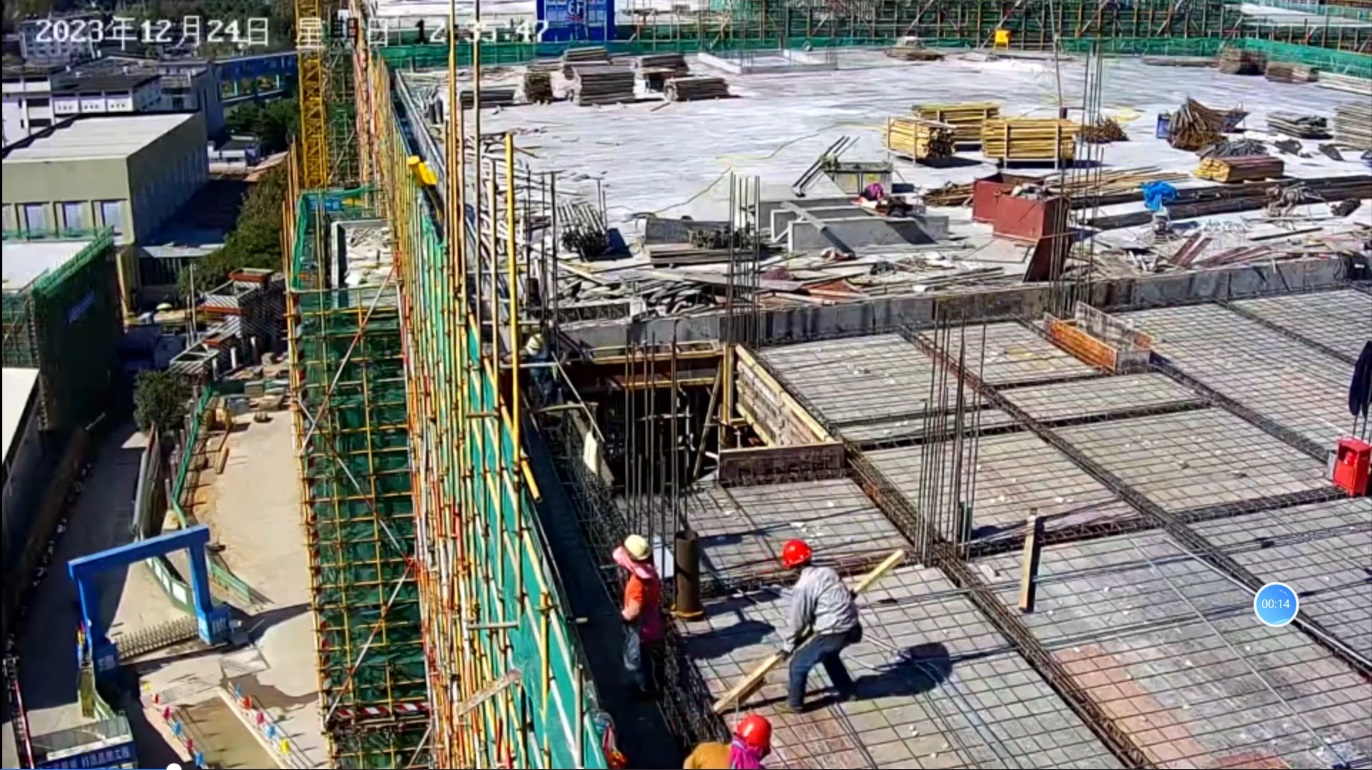person: (771, 539, 862, 712), (606, 532, 664, 683), (681, 709, 774, 769)
